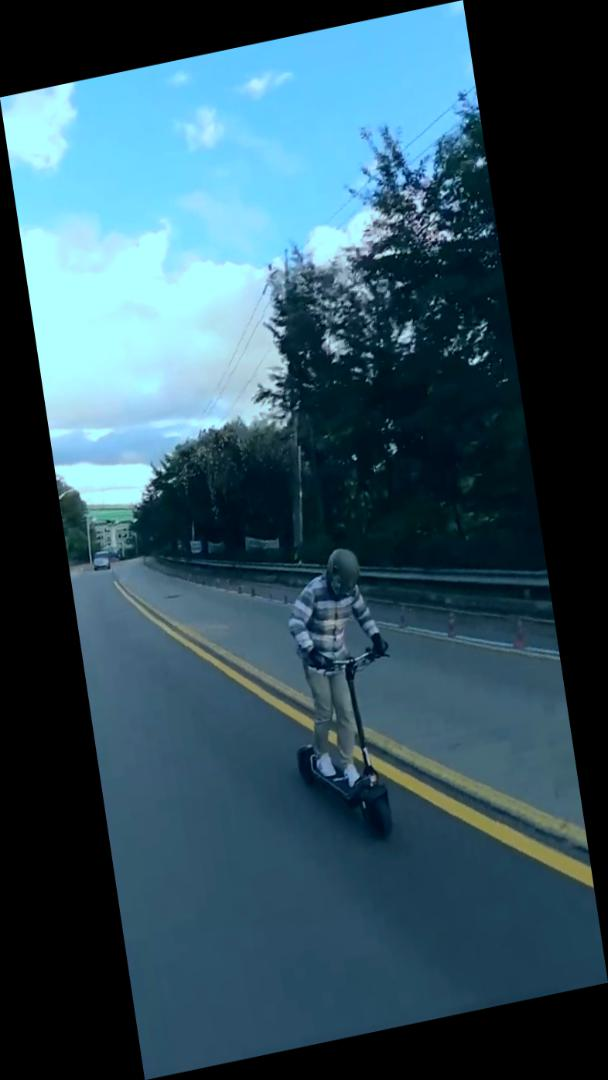helmet: (265, 535, 419, 860)
